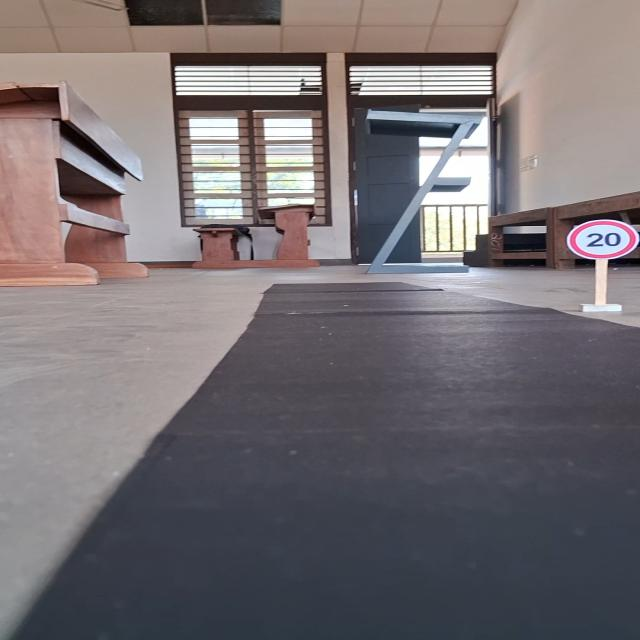Speed20: (563, 215, 640, 262)
